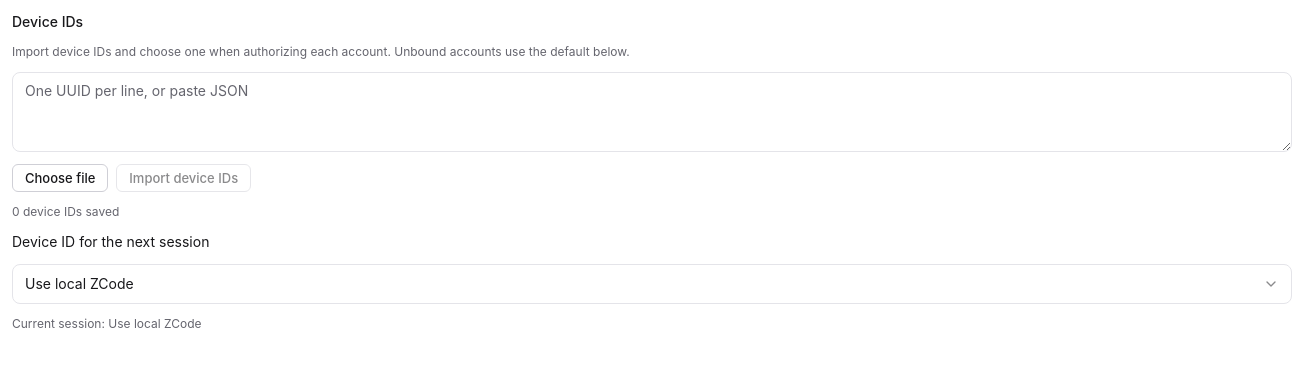
Test: keeps the current selection and draft on a rejected import
Expected: the dropdown is enabled, left=12, top=264, right=1292, bottom=304
Type "invalid-input" into the text box named "Device IDs to import".
click(652, 112); type("invalid-input")  # box left=12, top=72, right=1292, bottom=152
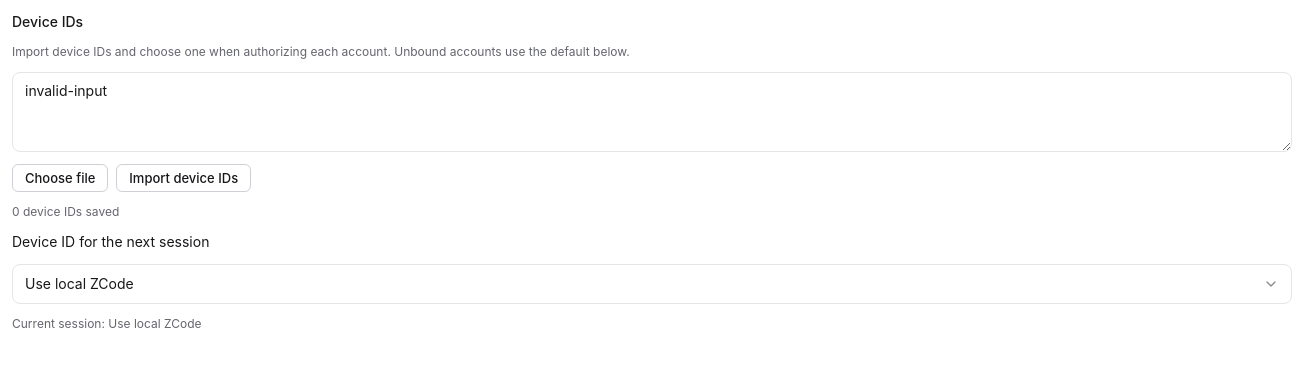
Click the button "Import device IDs".
click(184, 178)  # box left=116, top=164, right=251, bottom=192
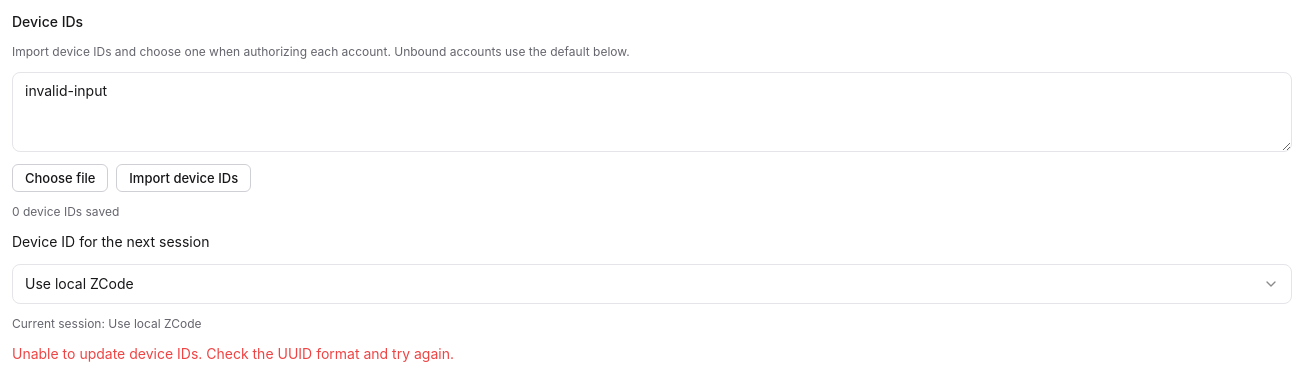
Now the message "Unable to update device IDs. Check the UUID format and try again." is shown, box left=12, top=345, right=454, bottom=362
